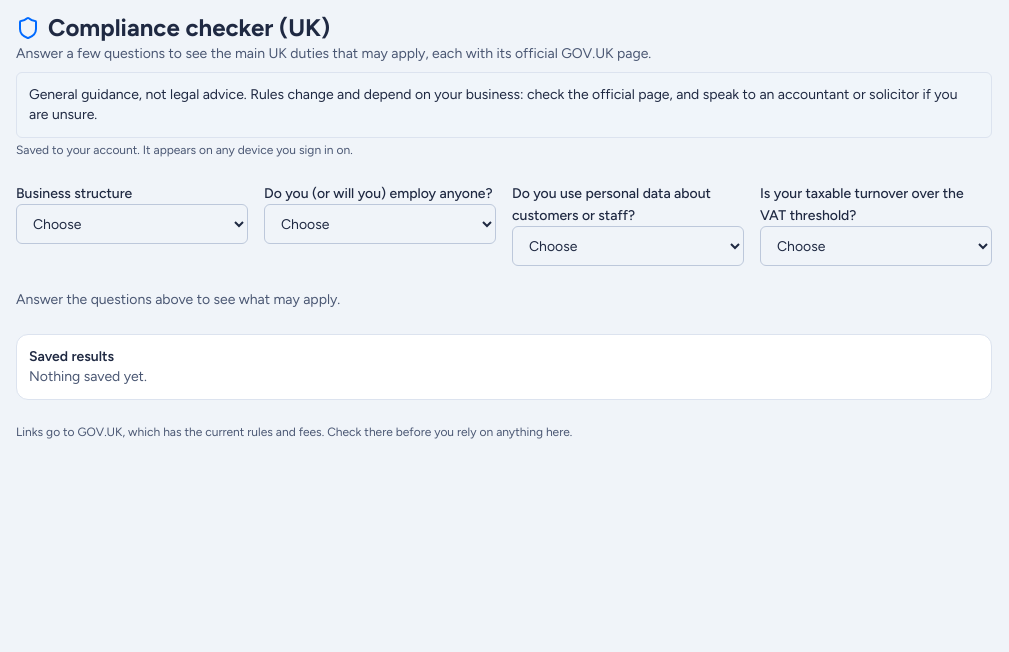
Test: signed in after the trial (the free tier): saved to the account › Compliance: "Save this result" saves to the account and lists it with a UK date; delete asks first
Later steps or results of the test are not shown.
Expected: the text "Saved to your account" is shown, [16,143,353,157]
Select "Sole trader" in the dropdown labelled "Business structure" at (132, 224), box [16,204,248,244]
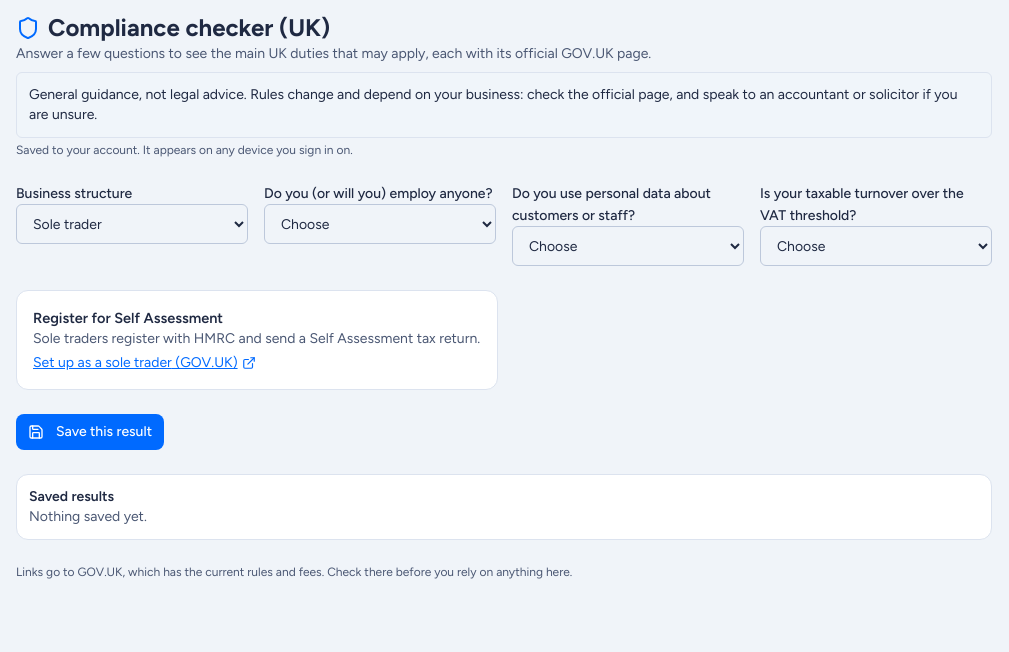
Click the button "Save this result" at (90, 432), box [16,414,164,450]
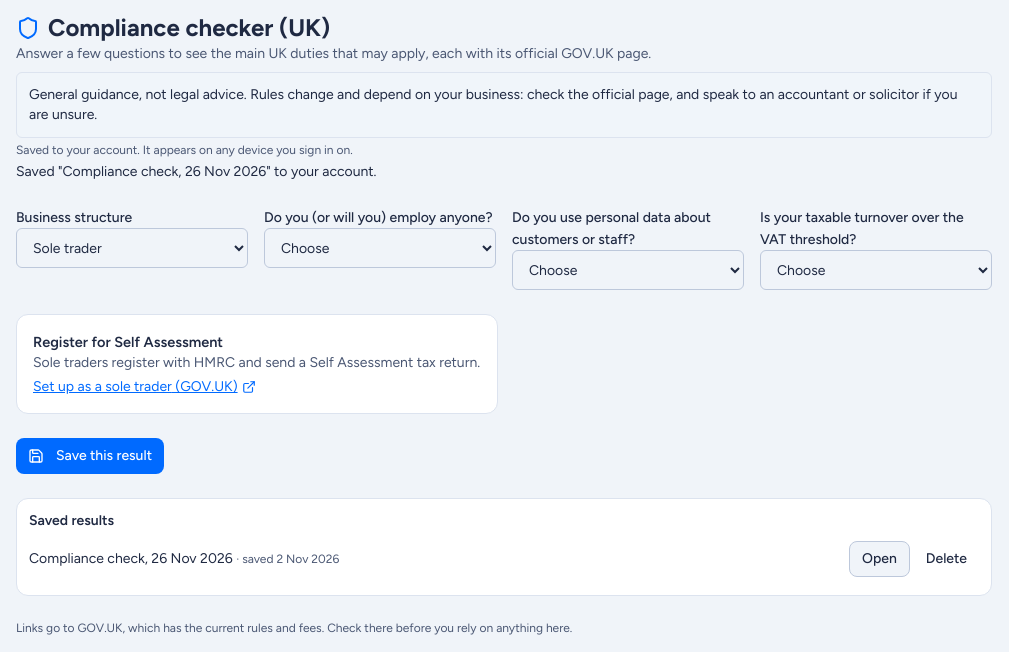
Expected: the text "Compliance check, 26 Nov 2026 · saved 2 Nov 2026" is shown, [29,549,339,569]
